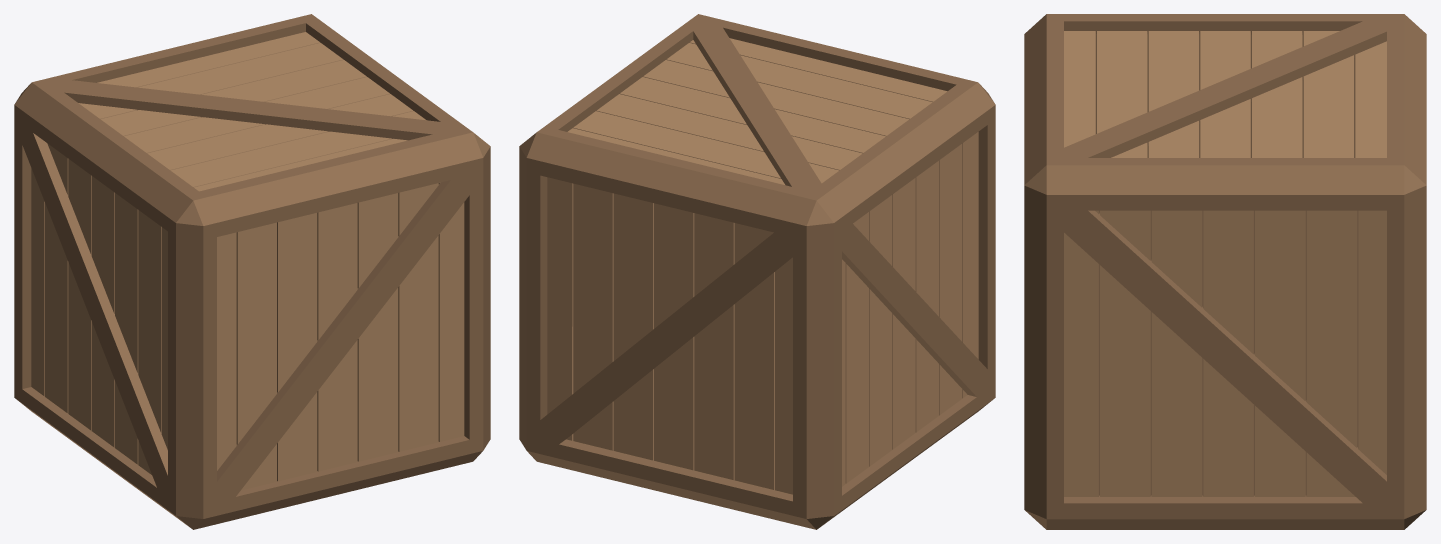
The model's file is Crate.fbx.
The picture shows the model from 3 angles, left to right: view 1: azimuth 30°, elevation 25°; view 2: azimuth 150°, elevation 25°; view 3: azimuth 270°, elevation 25°; orthographic projection. The views are drawn at different scales.
Visible parts, largest first — view 1: Crate_Combined; view 2: Crate_Combined; view 3: Crate_Combined.
Part boxes in pixels (<box>): Crate_Combined: <box>14,14,490,529</box>; Crate_Combined: <box>519,14,995,529</box>; Crate_Combined: <box>1024,14,1426,529</box>.
Size of the model in its own units: 143 by 143 by 143.
